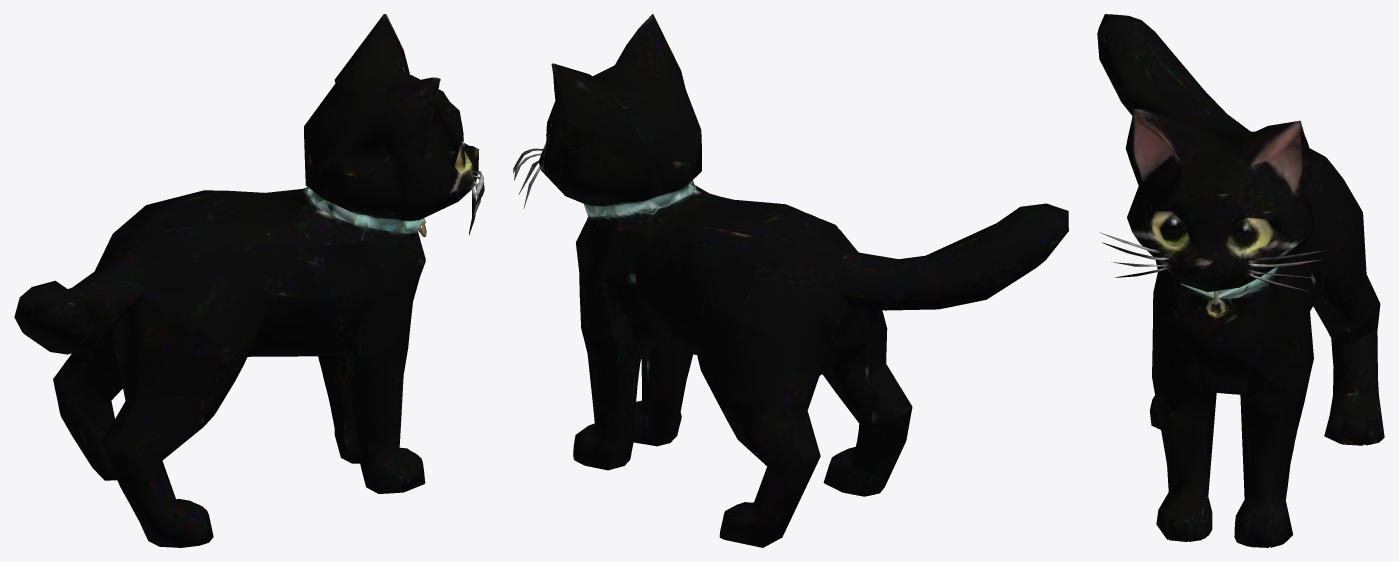
File: PEPPERCAT-lo.glb
3 renders of one model, left to right at view 1: azimuth 30°, elevation 25°; view 2: azimuth 150°, elevation 25°; view 3: azimuth 270°, elevation 25°, orthographic. The views are drawn at different scales.
Parts seen in each view (by area): view 1: material; view 2: material; view 3: material.
Boxes of the visible parts, x1,y1,x2,y2 form: material: [14, 14, 484, 547]; material: [513, 14, 1068, 547]; material: [1097, 14, 1384, 547].
Bounding box in the file's own units: 1.25 × 0.9993 × 0.6022.
1 material, 1 textured.
